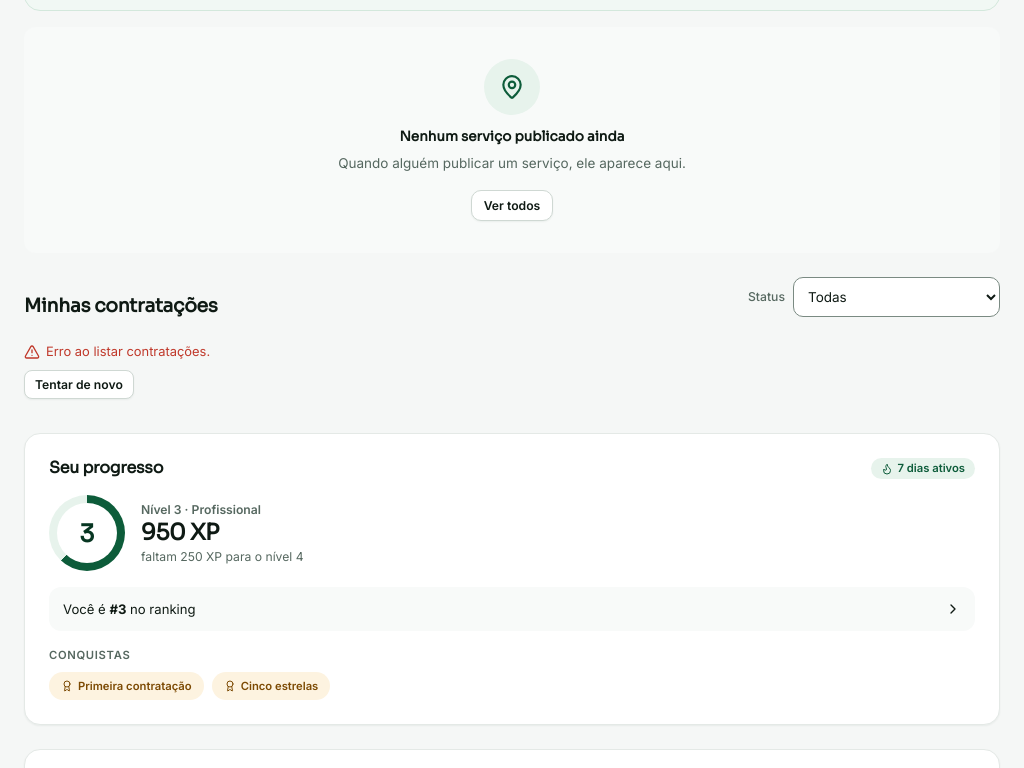
Test: InicioView › falha ao buscar as contratações: mostra o erro e "Tentar de novo" busca outra vez
(page scrolled)
Expected: the message shows "Erro ao listar contratações.", [46, 344, 210, 359]
Click the button "Tentar de novo".
click(79, 384)  # box [24, 370, 134, 399]
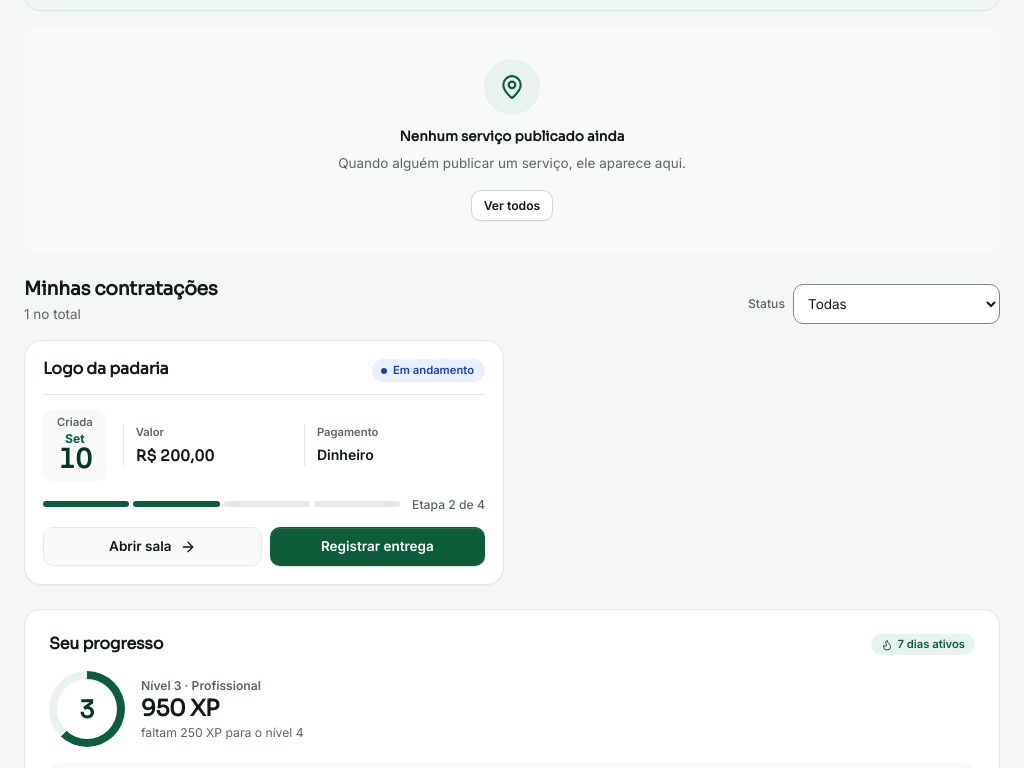
Now the element "Logo da padaria" is shown, box [24, 340, 504, 585]
